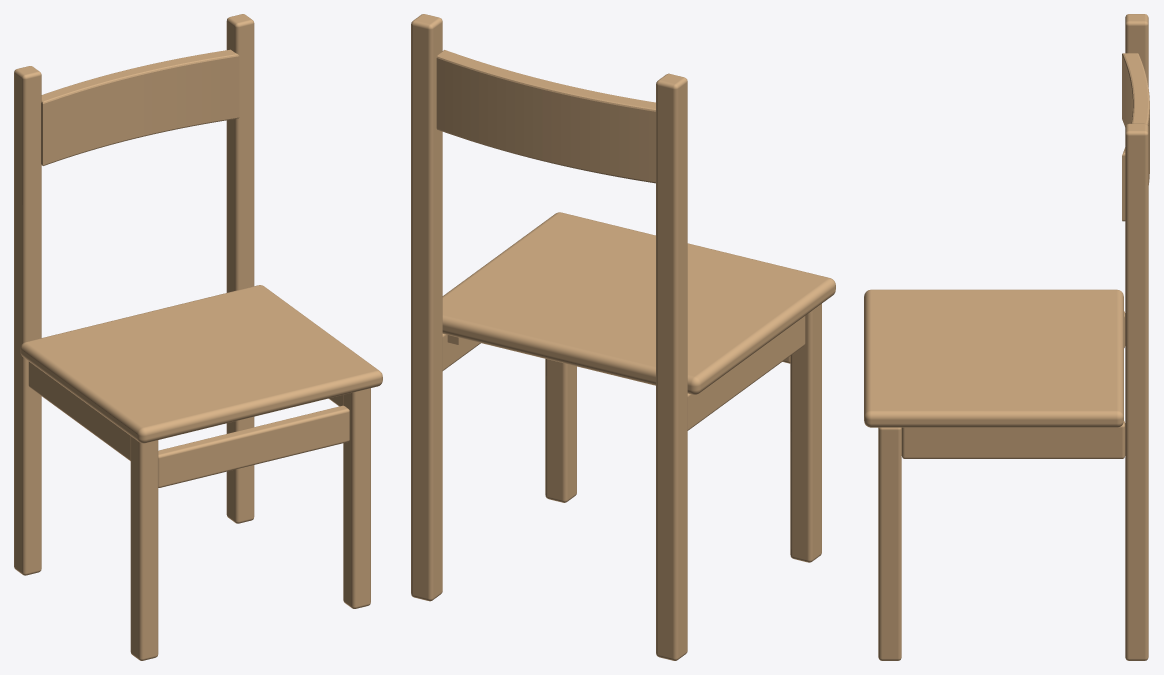
Rendered from silla.glb.
3 renders of one model, left to right at view 1: azimuth 30°, elevation 25°; view 2: azimuth 150°, elevation 25°; view 3: azimuth 270°, elevation 25°, orthographic. The views are drawn at different scales.
Parts seen in each view (by area): view 1: C, F, A_L, A_R, E, B_L, B_R, D_L; view 2: C, A_L, A_R, F, B_L, B_R, D_L, D_R; view 3: C, A_R, D_R, B_R, F, A_L.
Boxes of the visible parts, <box> form: C: <box>20,285,382,443</box>; F: <box>41,49,239,165</box>; A_L: <box>14,66,41,575</box>; A_R: <box>226,14,254,523</box>; E: <box>158,405,349,487</box>; B_L: <box>130,436,158,660</box>; B_R: <box>343,388,370,608</box>; D_L: <box>28,361,130,460</box>; C: <box>442,212,835,394</box>; A_L: <box>656,73,687,660</box>; A_R: <box>411,14,442,601</box>; F: <box>436,50,655,183</box>; B_L: <box>790,304,821,562</box>; B_R: <box>545,359,576,502</box>; D_L: <box>687,316,805,430</box>; D_R: <box>442,334,480,370</box>; C: <box>864,289,1123,427</box>; A_R: <box>1125,123,1148,660</box>; D_R: <box>901,421,1125,458</box>; B_R: <box>878,427,901,660</box>; F: <box>1122,53,1149,221</box>; A_L: <box>1125,14,1148,86</box>.
Bounding box in the file's own units: 0.46 × 0.9 × 0.44.
